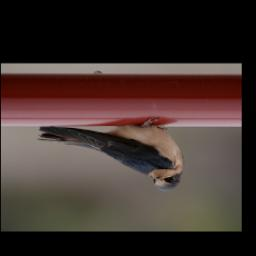Swallow: (36, 114, 185, 194)
